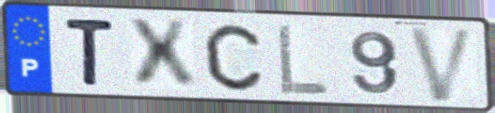9: (347, 29, 399, 96)
C: (201, 22, 265, 94)
L: (274, 21, 331, 97)
T: (61, 15, 118, 89)
V: (405, 25, 480, 104)
X: (124, 18, 201, 92)
